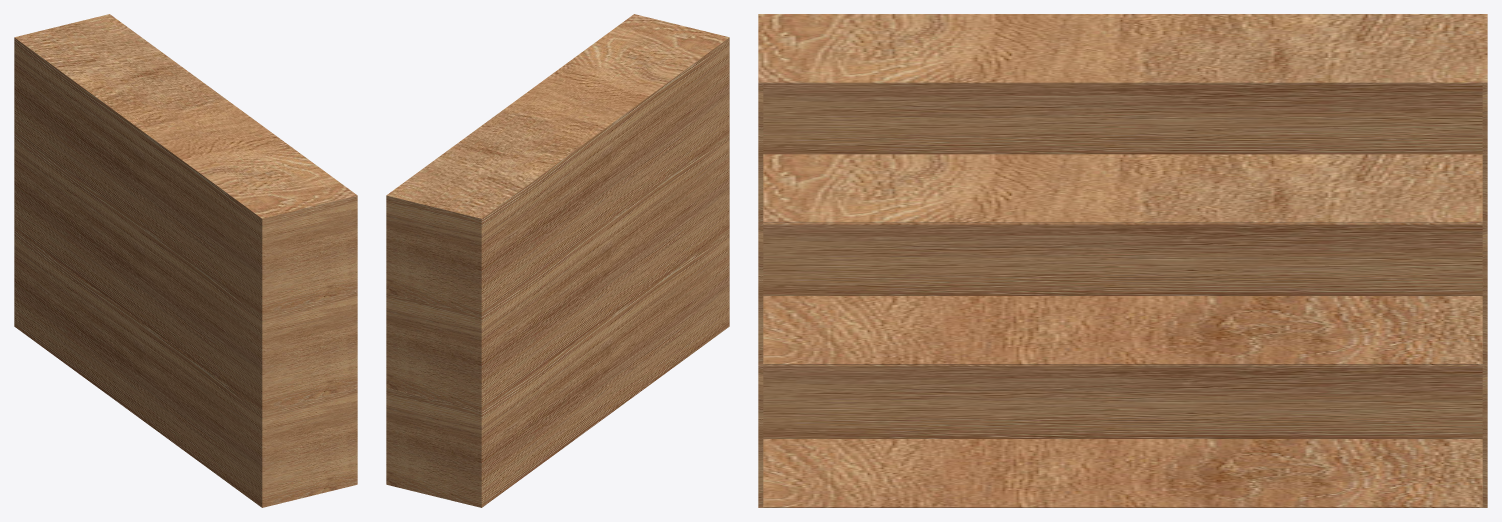
Rendered from shoebox.fbx.
3 views of the same model, side by side, from view 1: azimuth 30°, elevation 25°; view 2: azimuth 150°, elevation 25°; view 3: azimuth 270°, elevation 25° (orthographic). The views are drawn at different scales.
Parts seen in each view (by area): view 1: shoes; view 2: shoes; view 3: shoes.
Boxes of the visible parts, x1=… form: shoes: x1=14, y1=14, x2=357, y2=507; shoes: x1=386, y1=14, x2=729, y2=507; shoes: x1=758, y1=14, x2=1487, y2=507.
Size of the model in its own units: 273 by 60.74 by 176.
